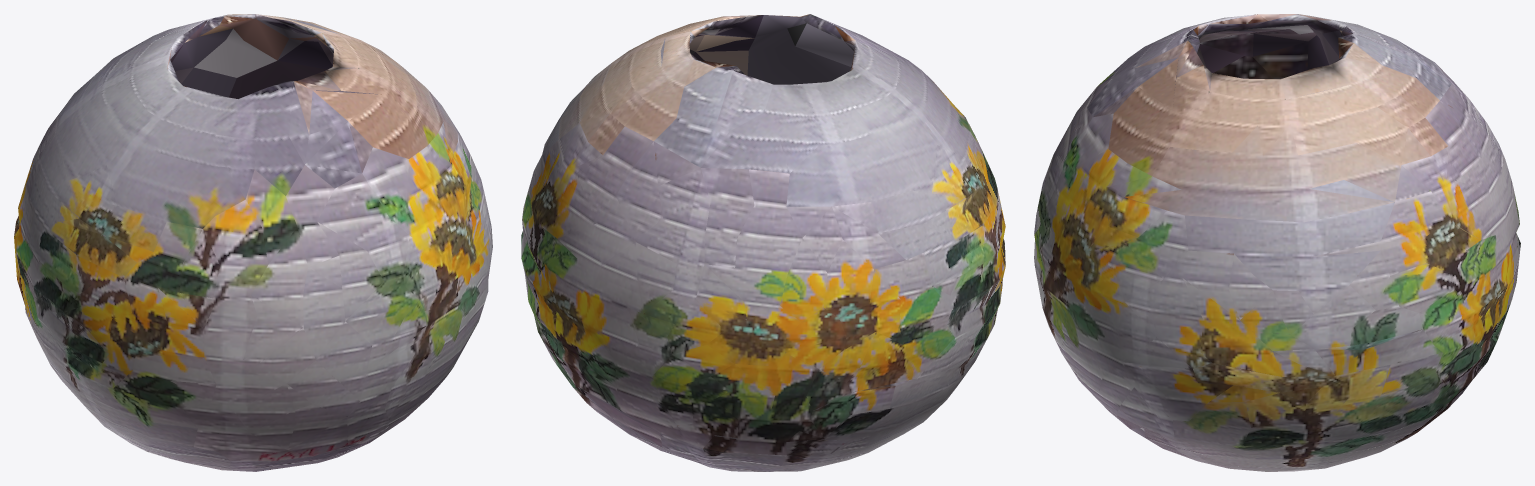
File: AH3 Kaye Lim Sunflowers.glb
The picture shows the model from 3 angles, left to right: view 1: azimuth 30°, elevation 25°; view 2: azimuth 150°, elevation 25°; view 3: azimuth 270°, elevation 25°; orthographic projection. The views are drawn at different scales.
Size of the model in its own units: 1000 by 944 by 1000.
1 material, 1 textured.
